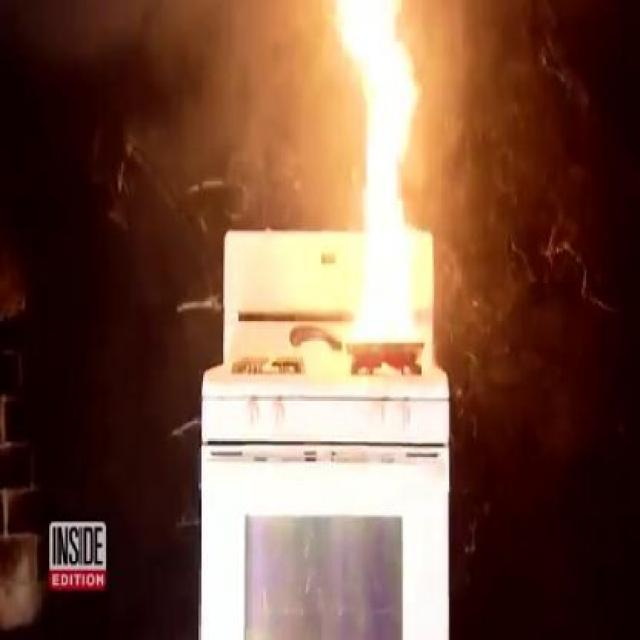fire: (317, 9, 443, 372)
